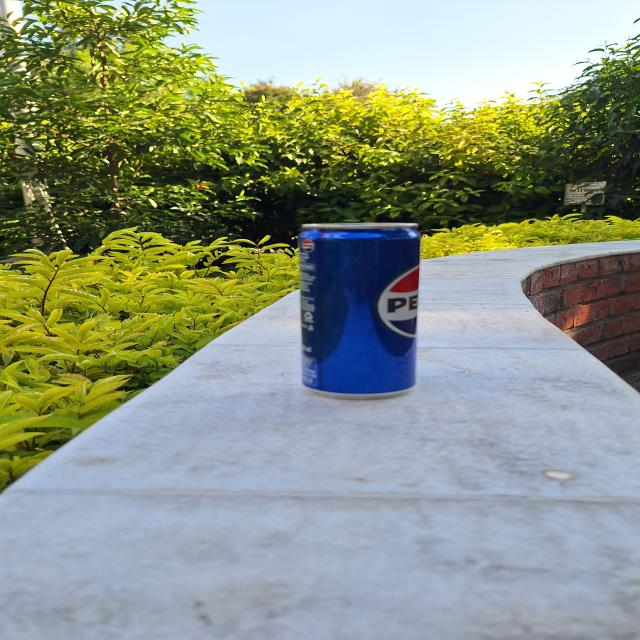Pepsi: (304, 218, 425, 395)
